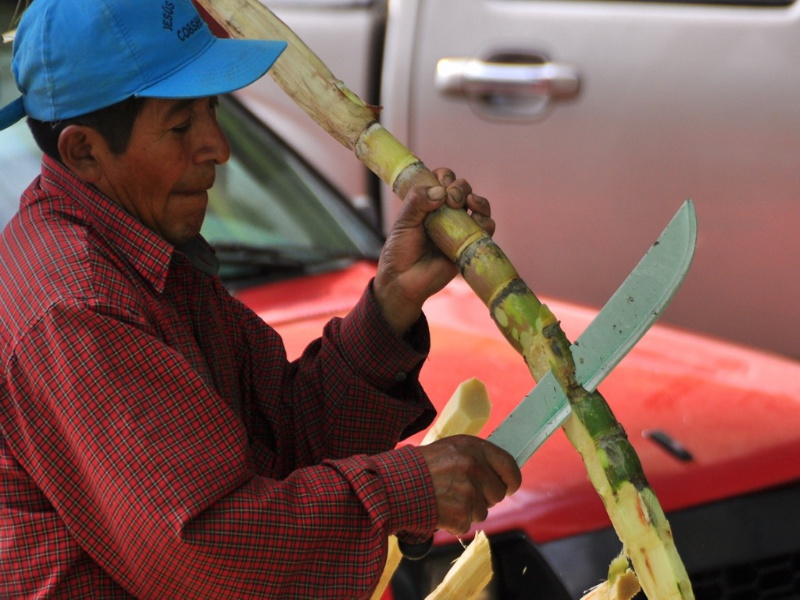knife: (398, 195, 700, 566)
